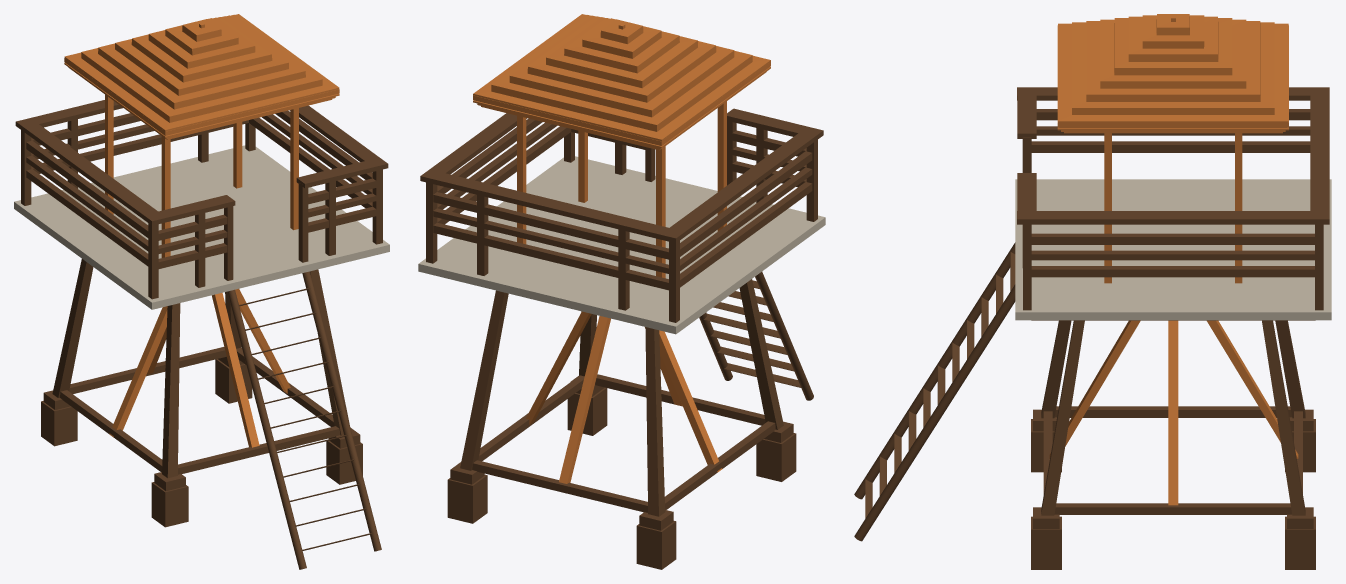
File: Beem.fbx
The picture shows the model from 3 angles, left to right: view 1: azimuth 30°, elevation 25°; view 2: azimuth 150°, elevation 25°; view 3: azimuth 270°, elevation 25°; orthographic projection. The views are drawn at different scales.
Parts seen in each view (by area): view 1: Beem; view 2: Beem; view 3: Beem.
Part boxes in pixels (x1,y1,x2,y2): Beem: [14, 14, 389, 569]; Beem: [418, 14, 825, 569]; Beem: [854, 14, 1331, 569].
Bounding box in the file's own units: 8.86 × 15.57 × 13.43.
